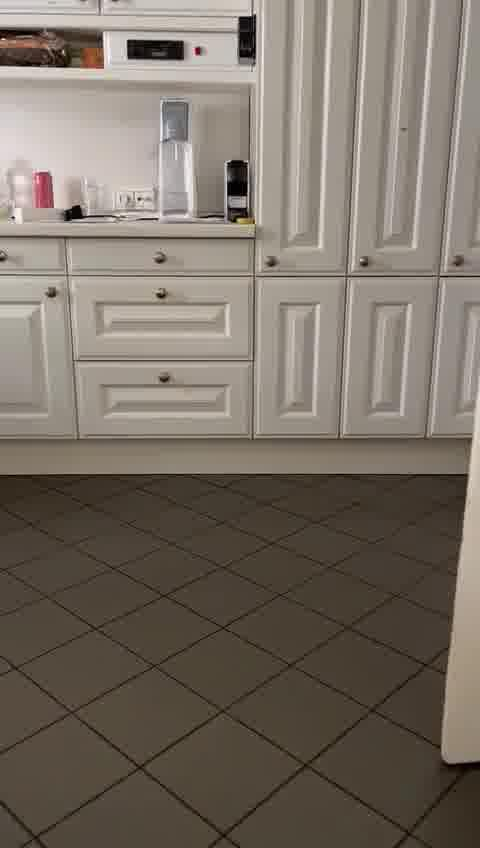cabinet_door: (357, 0, 453, 277), (260, 0, 356, 276), (69, 282, 246, 365), (253, 277, 342, 440), (353, 274, 434, 440), (75, 359, 245, 438), (0, 279, 68, 434), (446, 0, 478, 279), (437, 276, 480, 444), (72, 241, 248, 278), (0, 243, 62, 275)
handle: (449, 246, 467, 274), (357, 250, 373, 277), (263, 250, 281, 274), (157, 369, 173, 391), (154, 285, 169, 305), (45, 284, 59, 304), (153, 248, 168, 266), (0, 244, 8, 266)
